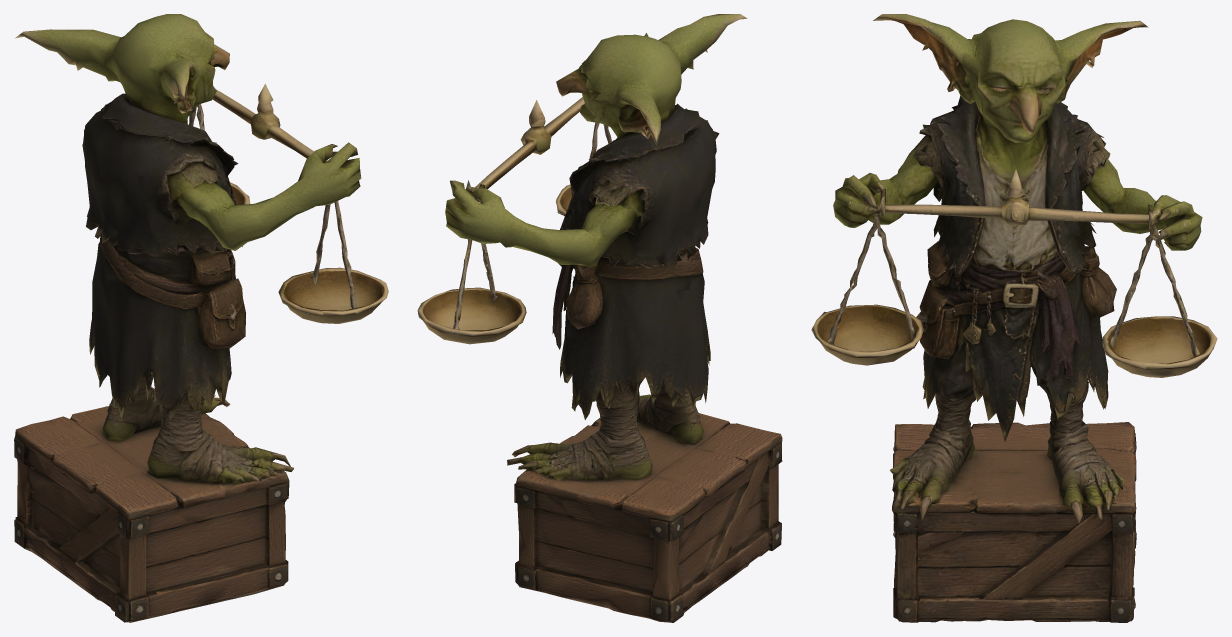
Rendered from auction.gltf.
3 renders of one model, left to right at view 1: azimuth 30°, elevation 25°; view 2: azimuth 150°, elevation 25°; view 3: azimuth 270°, elevation 25°, orthographic. The views are drawn at different scales.
Parts seen in each view (by area): view 1: tripo_node_cf5ec07a-ea23-470b-b855-71803a08fb5c; view 2: tripo_node_cf5ec07a-ea23-470b-b855-71803a08fb5c; view 3: tripo_node_cf5ec07a-ea23-470b-b855-71803a08fb5c.
Part boxes in pixels (x1,y1,x2,y2): tripo_node_cf5ec07a-ea23-470b-b855-71803a08fb5c: (14, 14, 388, 622); tripo_node_cf5ec07a-ea23-470b-b855-71803a08fb5c: (417, 14, 782, 622); tripo_node_cf5ec07a-ea23-470b-b855-71803a08fb5c: (811, 14, 1217, 622).
Size of the model in its own units: 0.4706 by 1 by 0.6534.
Materials: 1 (1 with a texture image).
